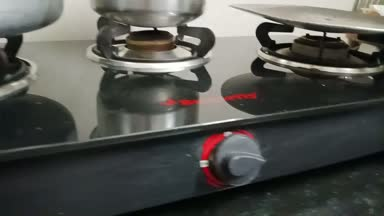flame_gas_off: (95, 20, 270, 188)
